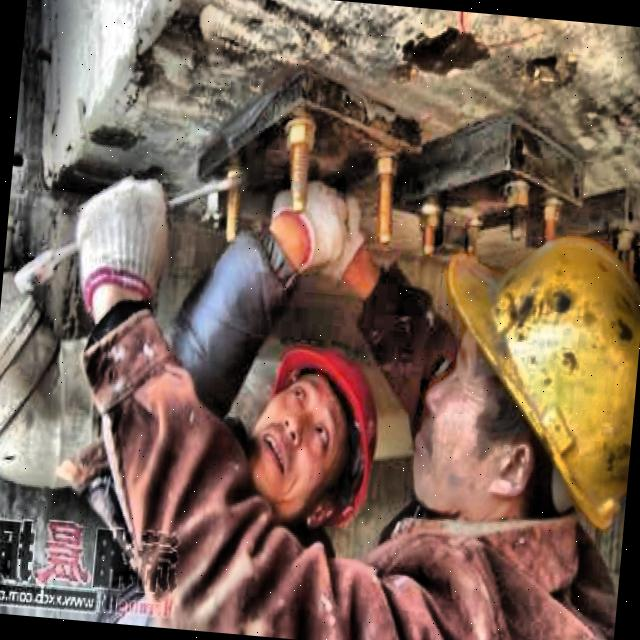helmet: (398, 207, 640, 574), (237, 328, 388, 530)
